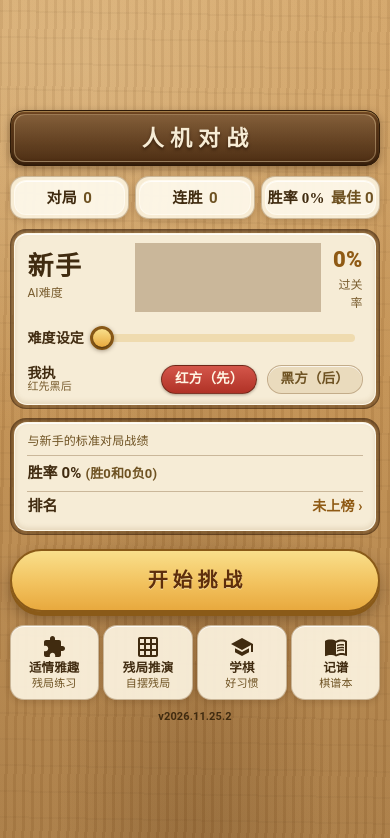
it: 适情雅趣 → 推演 的接线（v2026.11.23.9） › 从推演「返回」回到练习页，仍停在刚才那一局（第2局）
The width and height of the screenshot is (390, 838).
Click the text "适情雅趣" at (54, 669), box [29,662,79,676]
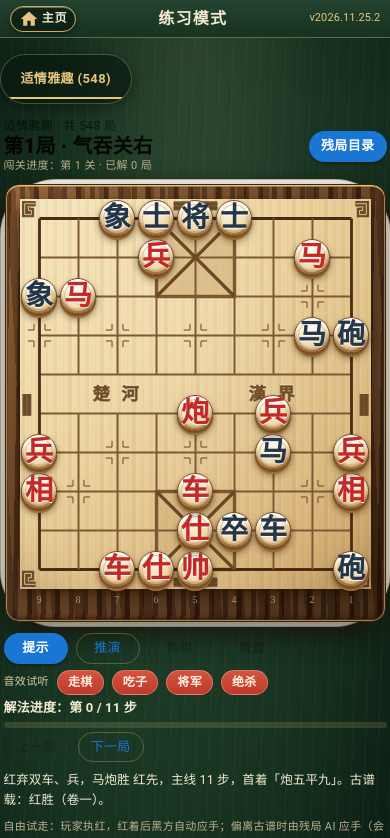
Expected: the heading shows "第1局", [4,134,153,159]
Click the button "下一局" at (111, 747), box [78,732,144,762]
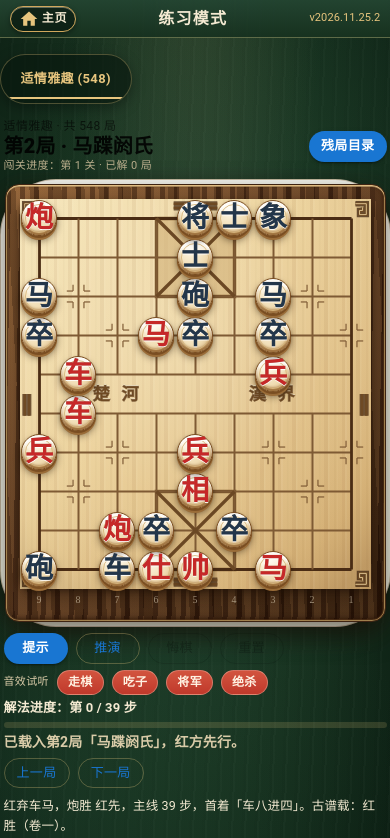
Expected: the heading shows "第2局", [4,134,153,159]
Click the button with test id "ancient-simulate" at (108, 648), box [76,633,140,664]
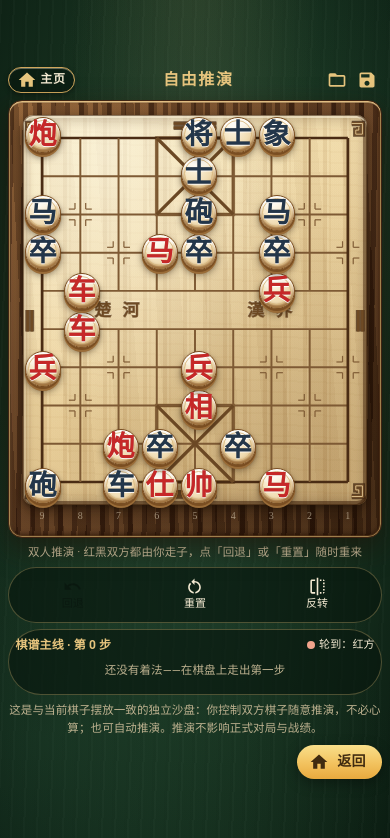
Expected: the text "自由推演" is shown, [163,71,234,88]
Click the button with test id "sim-back" at (340, 762), box [297,745,382,779]
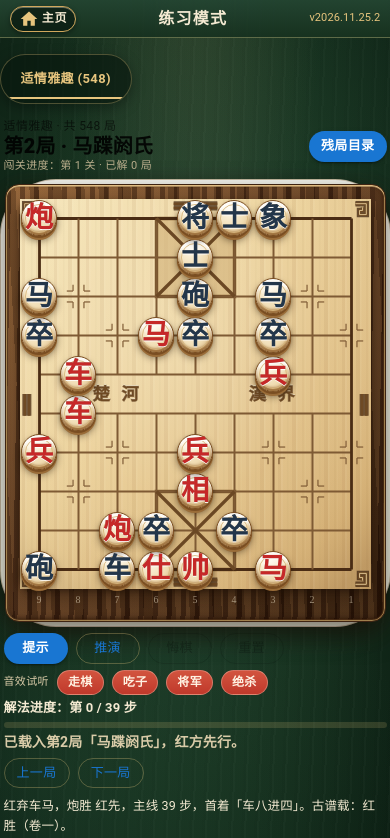
Expected: the text "适情雅趣 · 共 548 局" is shown, [4,119,116,133]
Expected: the heading shows "第2局", [4,134,153,159]
